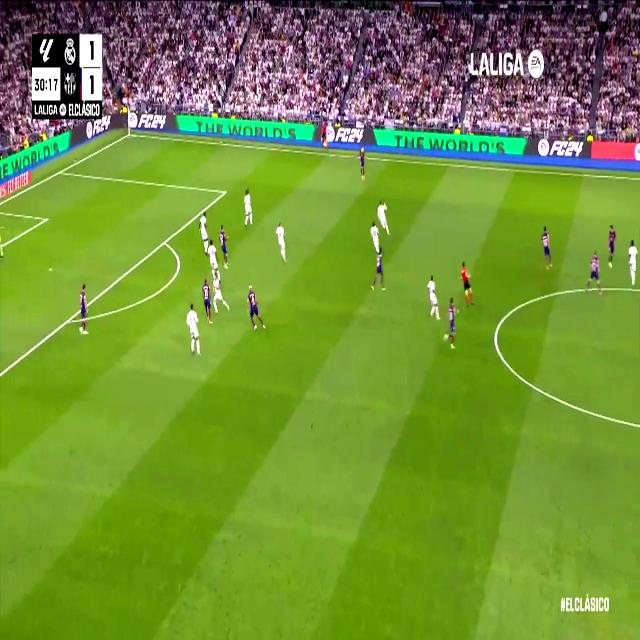bigarea_top_inner: (221, 184, 227, 198)
bigarea_top_outter: (56, 163, 64, 177)
bottom_arc_area_intersection: (65, 310, 73, 328)
corner: (125, 128, 133, 139)
smallarea_top_inner: (43, 214, 48, 224)
top_arc_area_intersection: (160, 233, 168, 249)
